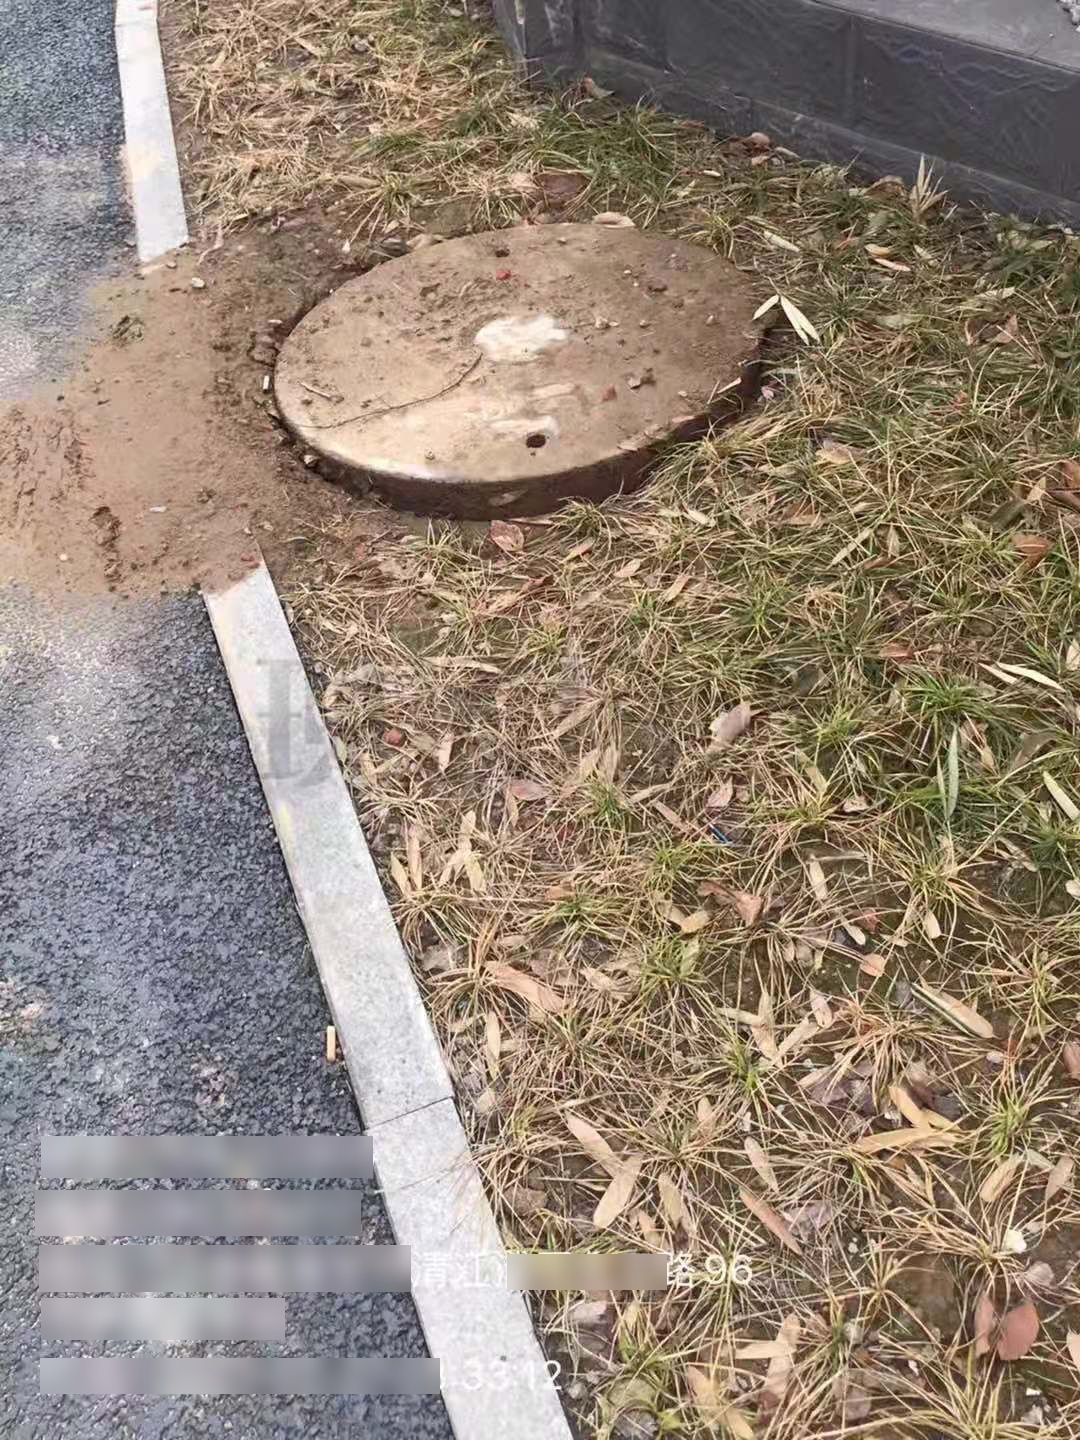uncovered: (270, 222, 767, 528)
